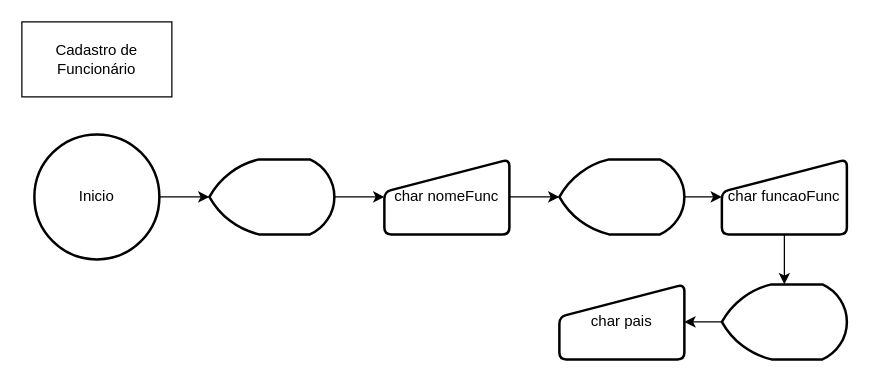
This 870x383 diagram has some shape labels left out. Each missing label, with the box of its shape:
Entre com a funcao do funcionario: (558, 158, 685, 235)
Entre com o nome do funcionario: (208, 158, 335, 235)
Entre com o país do funcionario: (720, 282, 848, 360)
